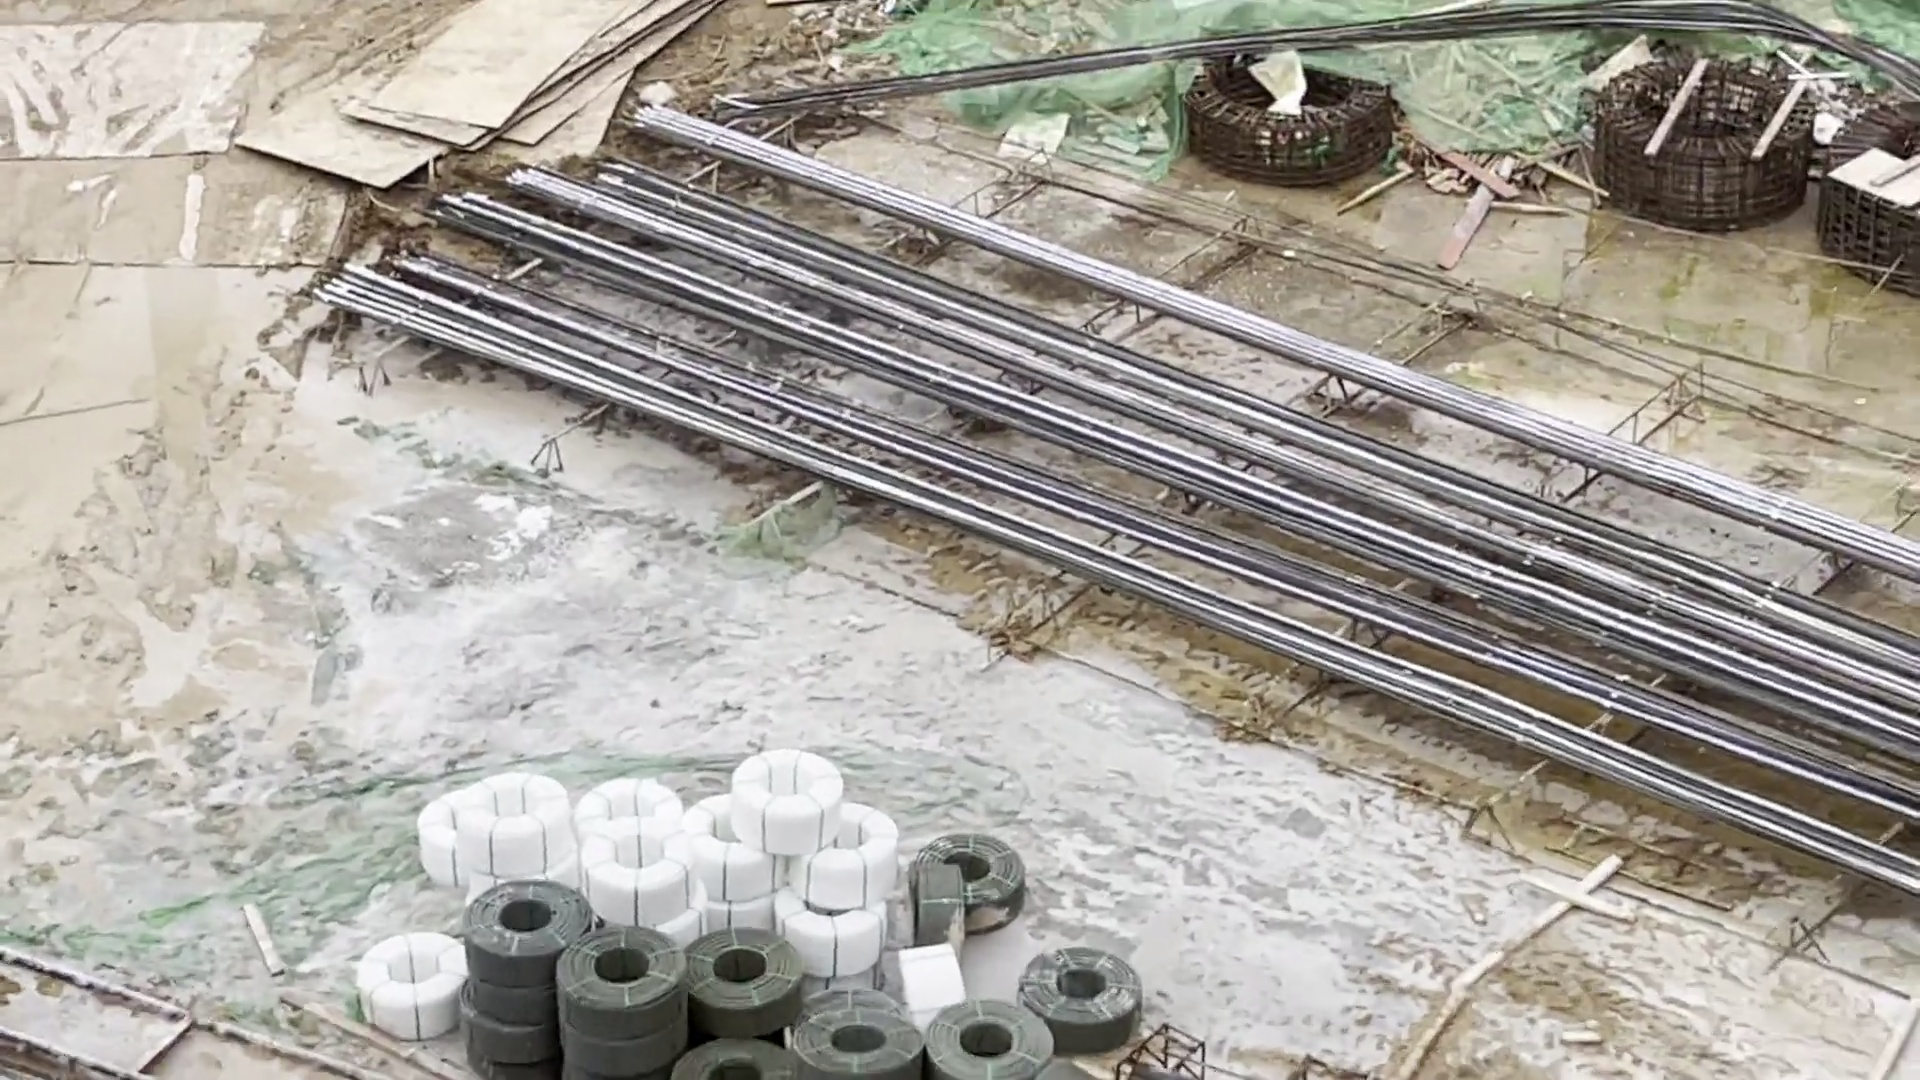rebar: (355, 200, 1920, 786), (799, 49, 1920, 102)
